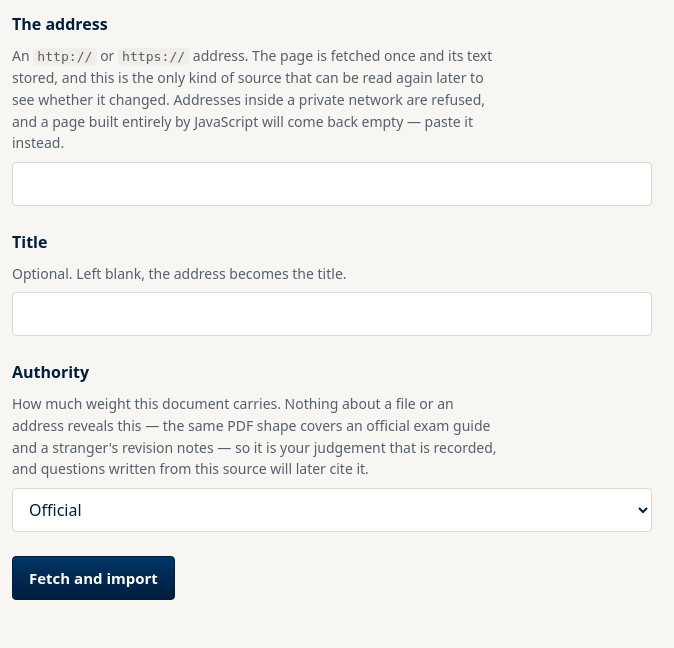
Test: SourceImportForm › fetching an address › reports a refused address on the address field, and keeps it
Type "http://10.0.0.5/" into the field labelled "The address" at [332, 184], box [12,162,652,206]
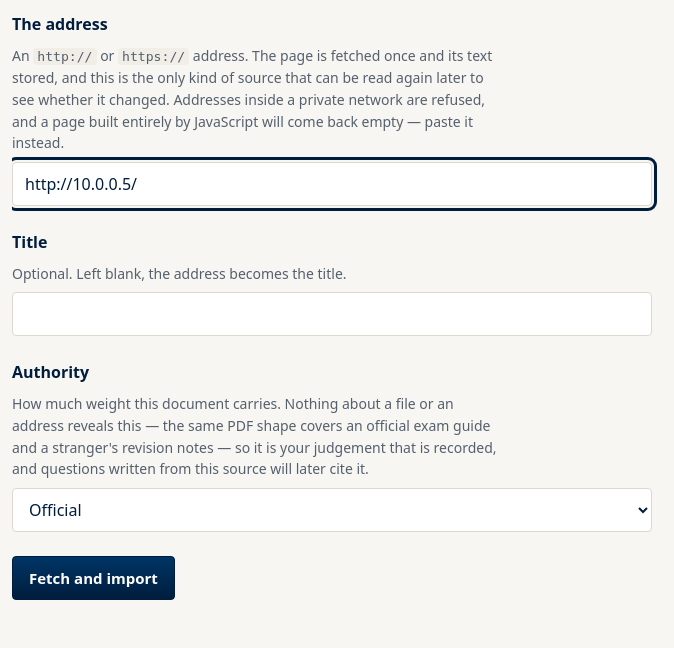
Click the button "Fetch and import" at [93, 578], box [12,556,175,600]
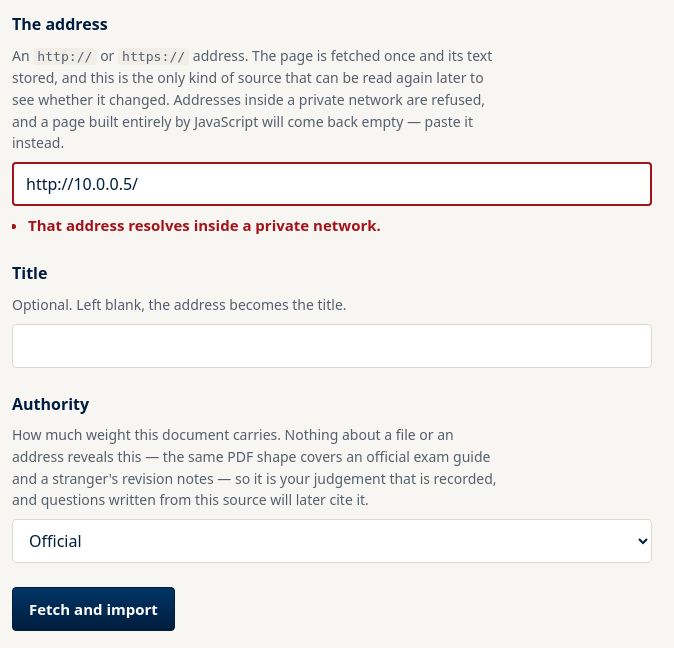
Result: the list item "That address resolves inside a private network." is shown at [28,215,381,235]
